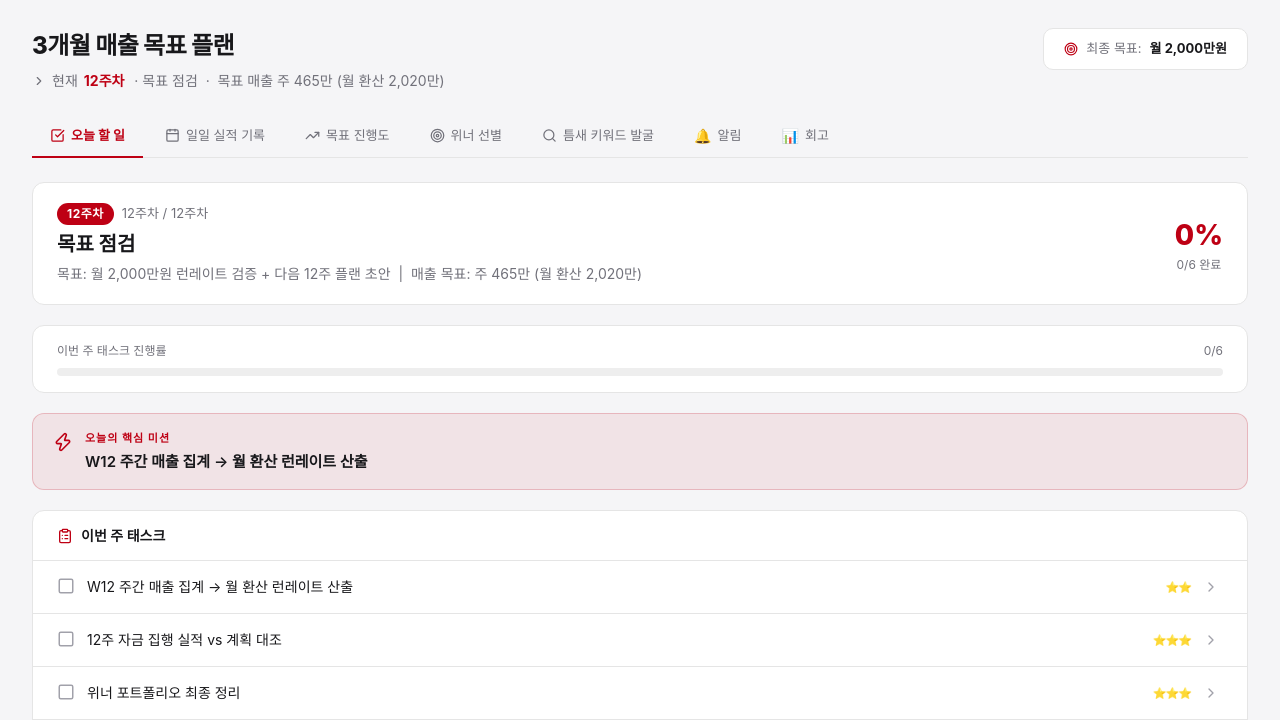
it: PlanClient — 플랜 종료 분기 › 12주 플랜 종료 이후에는 "이번 주 런레이트" 대신 종료 문구가 뜬다
Click the button "목표 진행도" at (347, 136), box [287,115,408,158]
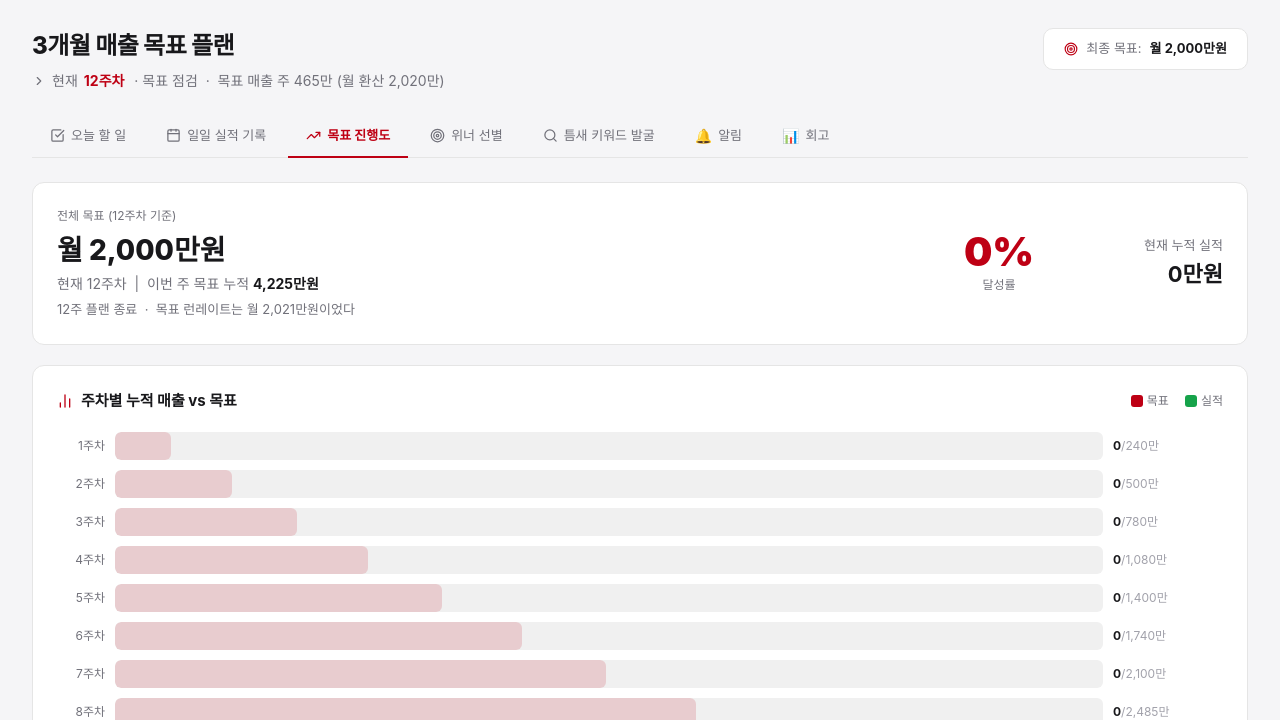
Expected: the text "12주 플랜 종료 · 목표 런레이트는 월 2,021만원이었다" is shown, [57,301,355,317]
